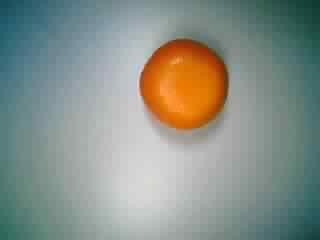orange: (135, 34, 230, 136)
